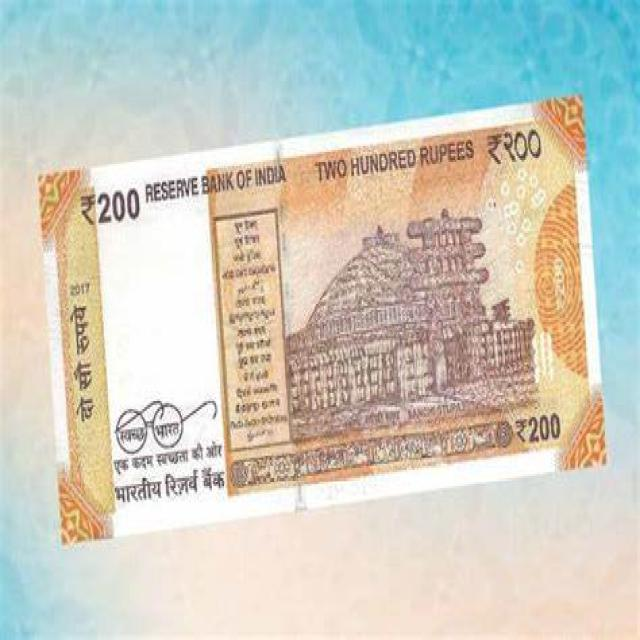200IndianRupees: (36, 95, 608, 545), (287, 95, 606, 507), (38, 141, 327, 551)
